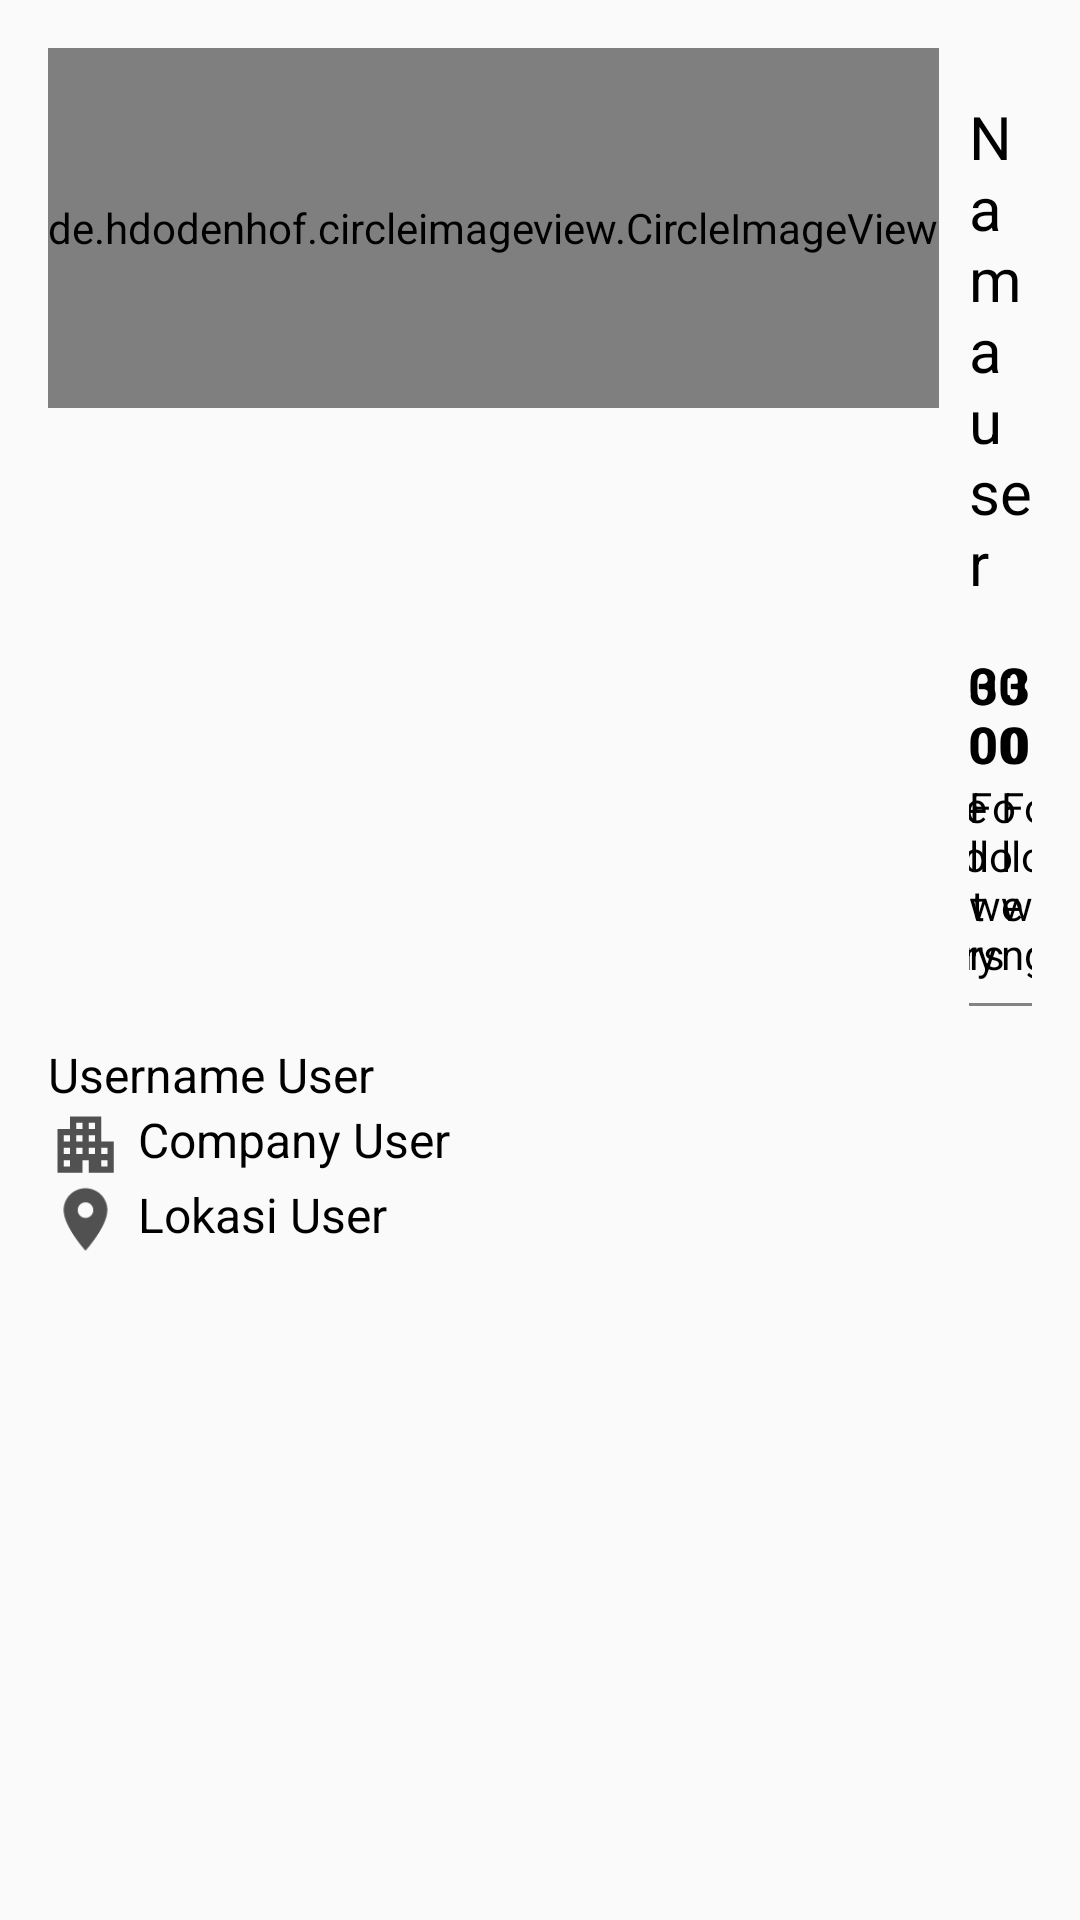

Named icons in this screenshot (1080 × 1920) and their bounding boxes, [x1,y1,x2,y2]:
apartment: [57,1116,114,1173]
location: [63,1188,108,1251]
